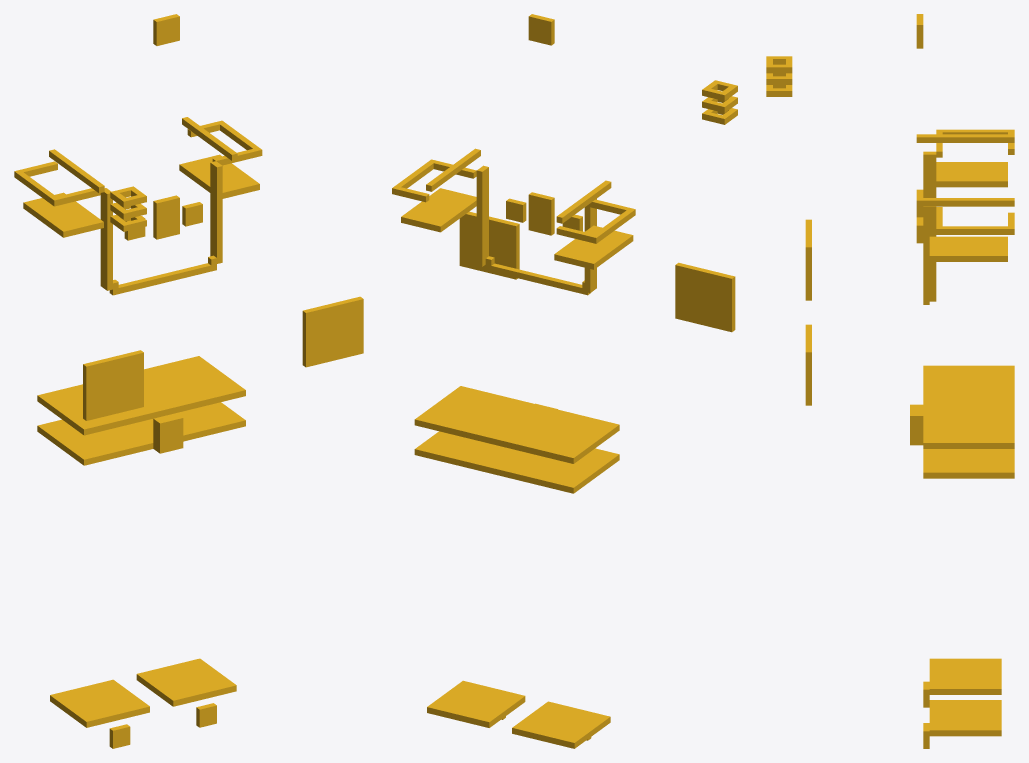
The model's file is Anubis-7.obj.
3 views of the same model, side by side, from view 1: azimuth 30°, elevation 25°; view 2: azimuth 150°, elevation 25°; view 3: azimuth 270°, elevation 25° (orthographic). The views are drawn at different scales.
Size of the model in its own units: 4.8 by 11.9 by 3.8.
Materials: 1 (1 with a texture image).
